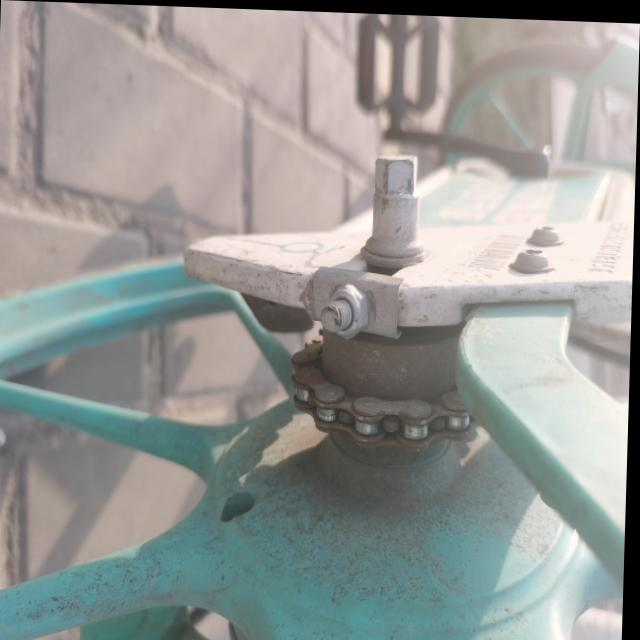Regular bolt: (326, 281, 370, 338)
